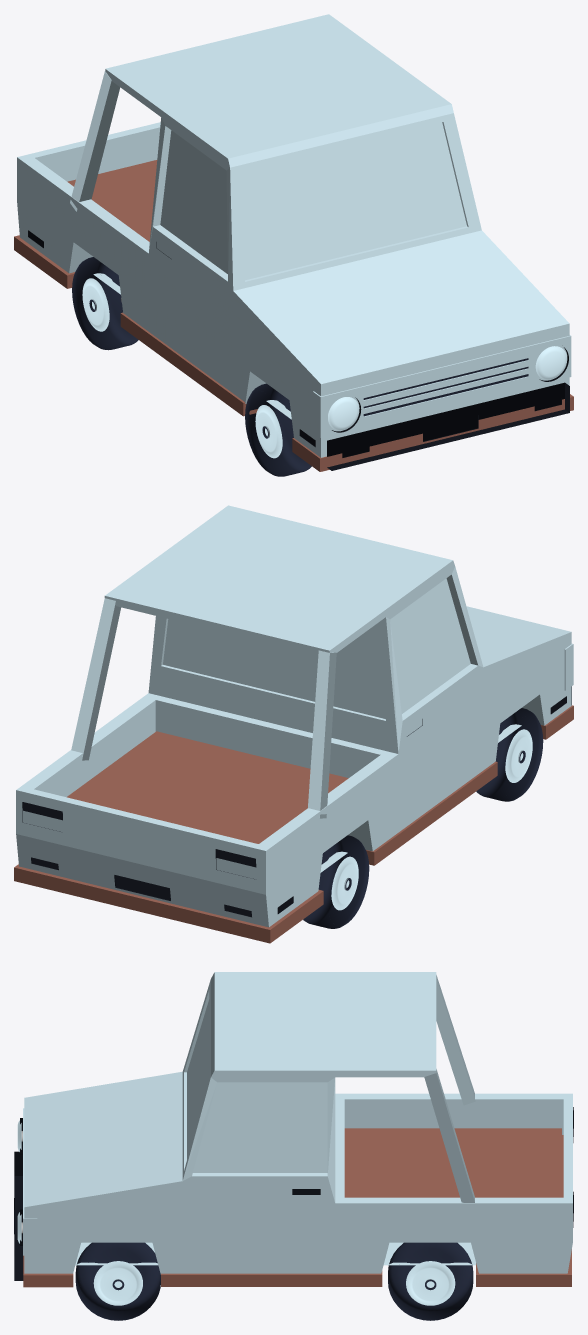
Rendered from car.obj.
3 views of the same model, one above another, from view 1: azimuth 30°, elevation 25°; view 2: azimuth 150°, elevation 25°; view 3: azimuth 270°, elevation 25° (orthographic). The views are drawn at different scales.
Visible parts, largest first — view 1: Cube_1, Cube.3_1, Cube.4, Cylinder.1_1, Cylinder.7, Cube, Cube.1_1, Cube.3, Cube.2, Cube.1, Cylinder.2, Cylinder.2_1 (+1 smaller); view 2: Cube_1, Cube, Cube.1, Cylinder.1_1, Cylinder.7, Cube.1_1, Cube.2_1, Cube.2, Cube.10; view 3: Cube_1, Cube, Cylinder.5, Cylinder.6, Cube.2, Cube.2_1, Cube.1_1, Cube.1, Cube.4, Cube.3, Cube.3_1.
Boxes of the visible parts, x1=… form: Cube_1: x1=17, y1=14, x2=569, y2=457; Cube.3_1: x1=312, y1=335, x2=571, y2=437; Cube.4: x1=327, y1=382, x2=569, y2=470; Cylinder.1_1: x1=72, y1=257, x2=138, y2=350; Cylinder.7: x1=245, y1=383, x2=311, y2=476; Cube: x1=67, y1=160, x2=157, y2=241; Cube.1_1: x1=70, y1=71, x2=120, y2=211; Cube.3: x1=292, y1=394, x2=573, y2=471; Cube.2: x1=120, y1=312, x2=269, y2=416; Cube.1: x1=14, y1=235, x2=74, y2=288; Cylinder.2: x1=535, y1=346, x2=568, y2=381; Cylinder.2_1: x1=328, y1=397, x2=361, y2=432; Cube_1: x1=16, y1=505, x2=571, y2=927; Cube: x1=67, y1=731, x2=348, y2=843; Cube.1: x1=14, y1=864, x2=323, y2=943; Cylinder.1_1: x1=303, y1=835, x2=369, y2=928; Cylinder.7: x1=476, y1=708, x2=543, y2=801; Cube.1_1: x1=308, y1=650, x2=336, y2=818; Cube.2_1: x1=71, y1=598, x2=121, y2=760; Cube.2: x1=366, y1=761, x2=497, y2=865; Cube.10: x1=114, y1=875, x2=170, y2=900; Cube_1: x1=24, y1=972, x2=572, y2=1274; Cube: x1=344, y1=1128, x2=561, y2=1197; Cylinder.5: x1=388, y1=1242, x2=473, y2=1320; Cylinder.6: x1=75, y1=1242, x2=160, y2=1320; Cube.2: x1=161, y1=1271, x2=382, y2=1286; Cube.2_1: x1=424, y1=1069, x2=474, y2=1202; Cube.1_1: x1=436, y1=975, x2=475, y2=1105; Cube.1: x1=476, y1=1249, x2=571, y2=1286; Cube.4: x1=14, y1=1151, x2=23, y2=1280; Cube.3: x1=23, y1=1255, x2=73, y2=1287; Cube.3_1: x1=23, y1=1108, x2=37, y2=1255.
Size of the model in its own units: 155 by 158 by 324.
